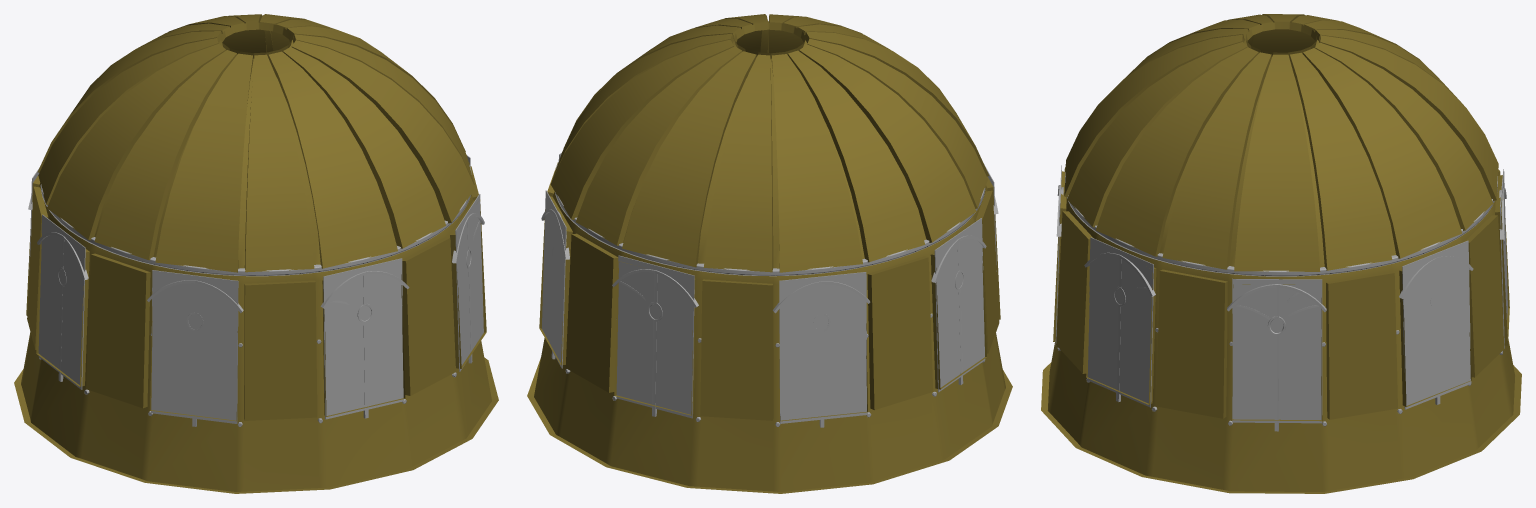
The model's file is domeV3.fbx.
3 renders of one model, left to right at view 1: azimuth 30°, elevation 25°; view 2: azimuth 150°, elevation 25°; view 3: azimuth 270°, elevation 25°, orthographic.
Parts seen in each view (by area): view 1: Dome1_railing; view 2: Dome1_railing; view 3: Dome1_railing.
Boxes of the visible parts, x1=… form: Dome1_railing: x1=14, y1=14, x2=498, y2=493; Dome1_railing: x1=527, y1=14, x2=1012, y2=493; Dome1_railing: x1=1041, y1=14, x2=1521, y2=493.
Size of the model in its own units: 62.4 by 50.95 by 62.4.
